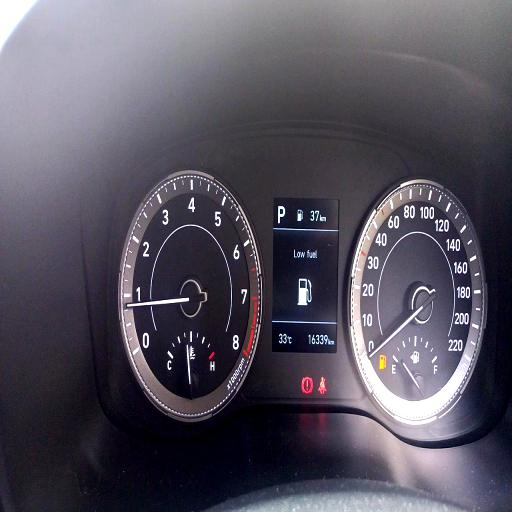belt: (318, 375, 326, 396)
brake_system_fault: (301, 376, 313, 394)
tachometer: (120, 168, 263, 422)
